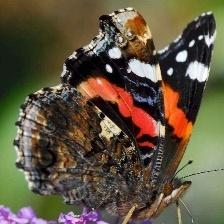butterfly: (14, 8, 217, 220)
